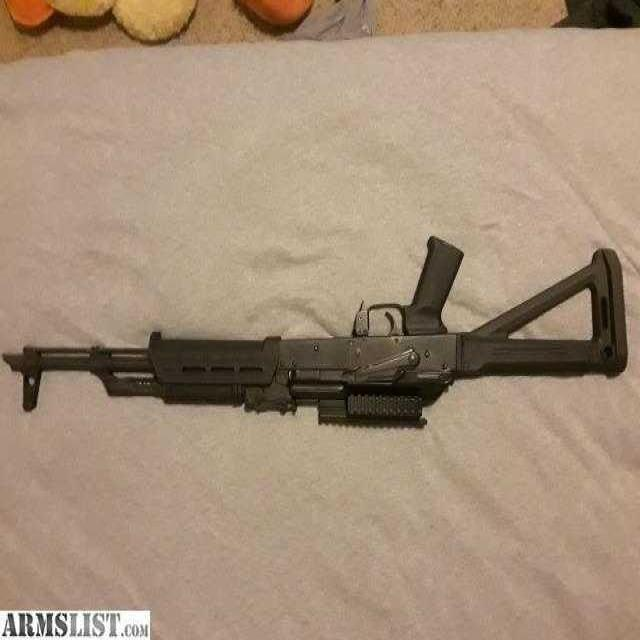heavyweapon: (1, 186, 636, 484)
